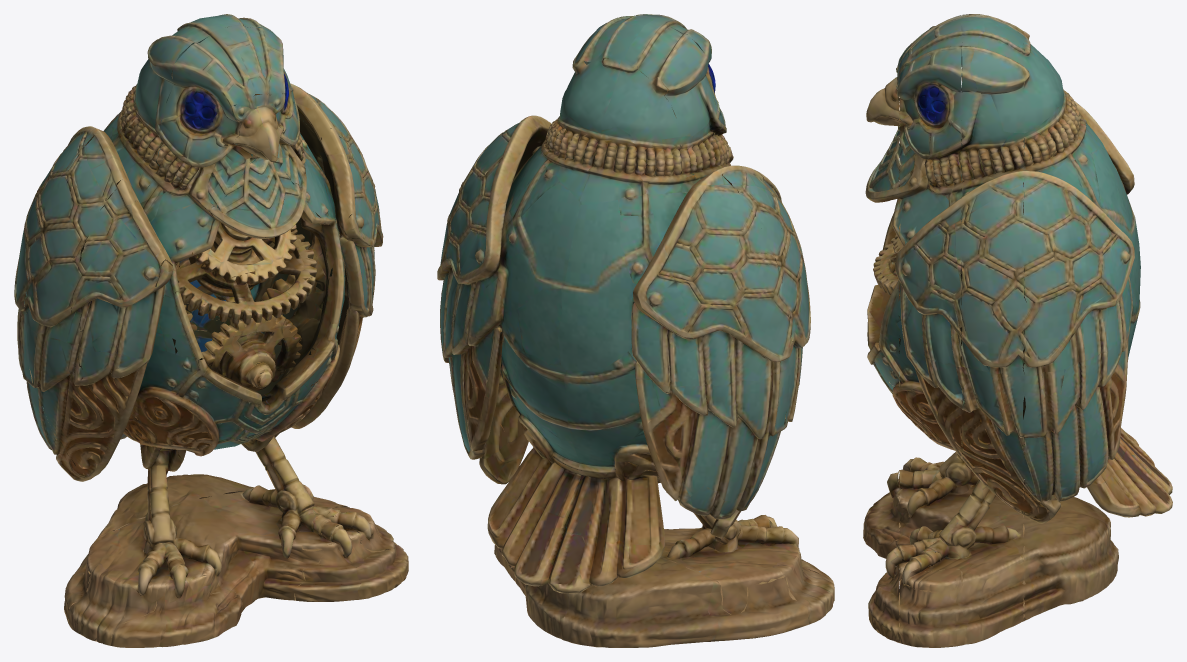
Rendered from pajaro.glb.
3 views of the same model, side by side, from view 1: azimuth 30°, elevation 25°; view 2: azimuth 150°, elevation 25°; view 3: azimuth 270°, elevation 25° (orthographic). The views are drawn at different scales.
Bounding box in the file's own units: 1.21 × 1.9 × 0.9699.
Materials: 1 (1 with a texture image).
